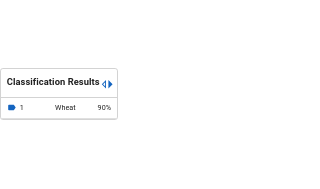
ResultsTable › row expansion › expands a row to show top results on click
The width and height of the screenshot is (320, 189).
Click the row.
click(59, 108)  # box [1,98,117,118]
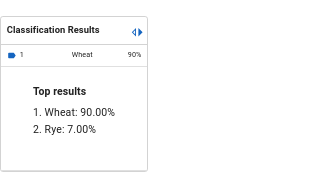
Expected: the heading "Top results" is shown, [33,85,86,98]
